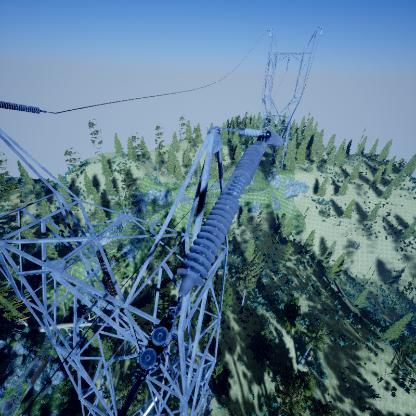insulator: (175, 133, 267, 306), (0, 97, 43, 117)
